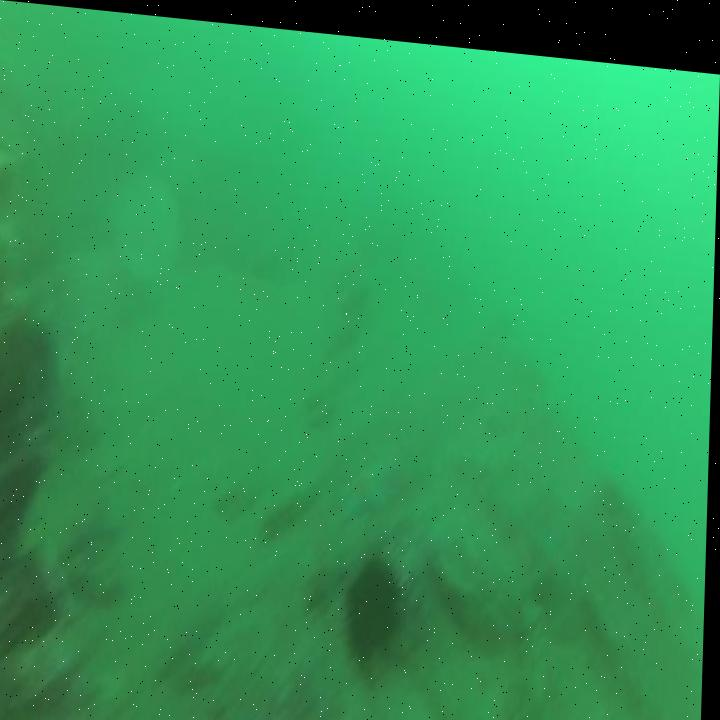echinus: (350, 545, 406, 653)
holothurian: (261, 472, 319, 541)
starfish: (340, 454, 390, 513)
